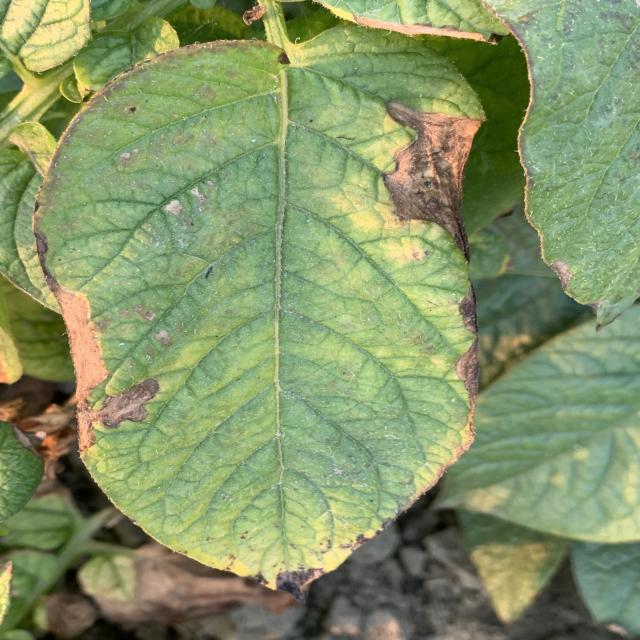lateblight: (47, 269, 160, 451), (383, 101, 482, 252), (455, 338, 478, 410), (458, 286, 477, 335)
